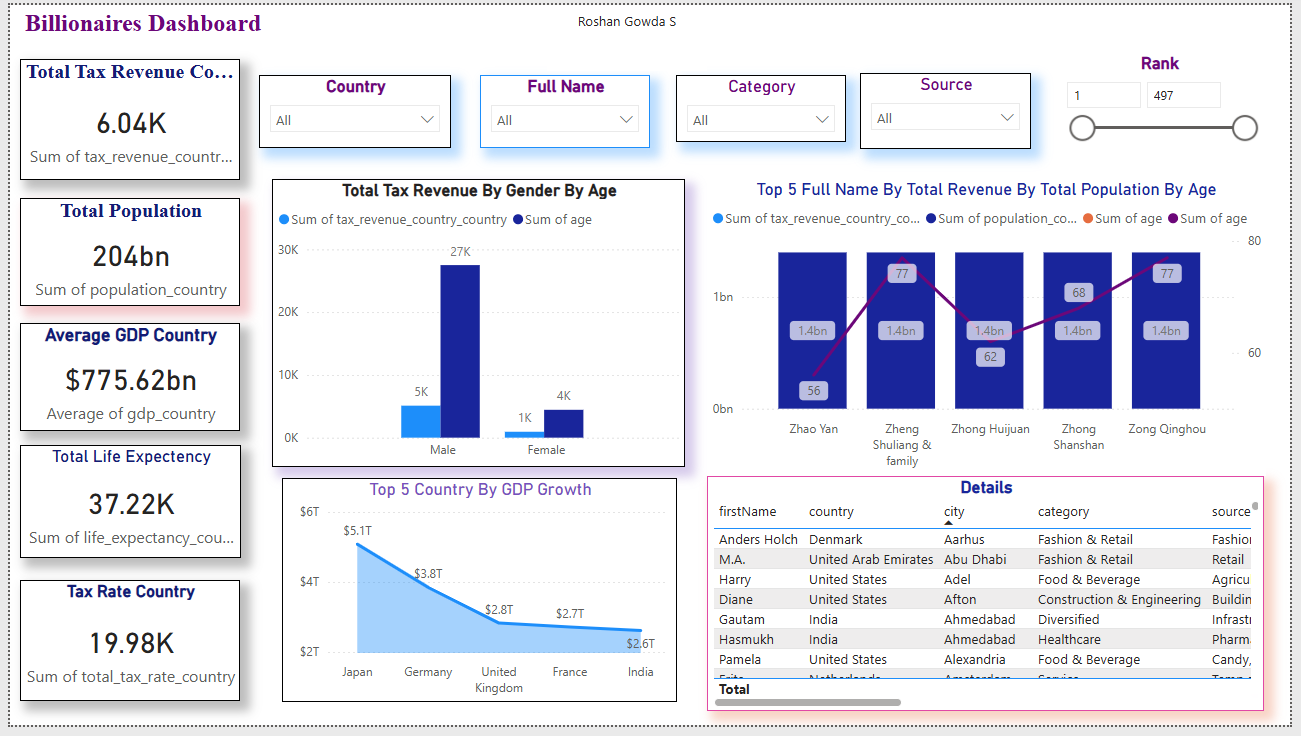

Layout of this report page (visuals, bound fields, positions):
{"tool":"powerbi","page":{"name":"Page 1","canvas":[1280,720],"ordinal":0},"visuals":[{"type":"textbox","box":[9.7,0,280.1,47.7],"z":0},{"type":"card","title":"Total Tax Revenue Country ","fields":{"Values":["Sum(Billionaires Statistics Dataset - Billionaires Statistics Dataset.tax_revenue_country_country)"]},"box":[9.7,54.5,219.8,120.6],"z":1000},{"type":"card","title":"Total Population","fields":{"Values":["Sum(Billionaires Statistics Dataset - Billionaires Statistics Dataset.population_country)"]},"box":[10,193.3,220,107.8],"z":2000},{"type":"card","title":"Average GDP Country","fields":{"Values":["Avg(Billionaires Statistics Dataset - Billionaires Statistics Dataset.gdp_country)"]},"box":[10,317.8,220,107.8],"z":3000},{"type":"card","title":"Total Life Expectency","fields":{"Values":["Sum(Billionaires Statistics Dataset - Billionaires Statistics Dataset.life_expectancy_country)"]},"box":[9.6,440.5,220.9,112.5],"z":4000},{"type":"card","title":"Tax Rate Country","fields":{"Values":["Sum(Billionaires Statistics Dataset - Billionaires Statistics Dataset.total_tax_rate_country)"]},"box":[9.7,574.8,219.8,121.6],"z":5000},{"type":"clusteredColumnChart","title":"Total Tax Revenue By Gender By Age ","fields":{"Y":["Sum(Billionaires Statistics Dataset - Billionaires Statistics Dataset.tax_revenue_country_country)","Sum(Billionaires Statistics Dataset - Billionaires Statistics Dataset.age)"],"Category":["Billionaires Statistics Dataset - Billionaires Statistics Dataset.gender"]},"box":[262.1,174.3,413,288.2],"z":6000},{"type":"slicer","title":"Country","fields":{"Values":["Billionaires Statistics Dataset - Billionaires Statistics Dataset.country"]},"box":[249.5,69.7,192,73.4],"z":7000},{"type":"slicer","title":"Full Name ","fields":{"Values":["Billionaires Statistics Dataset - Billionaires Statistics Dataset.firstName"]},"box":[469.6,69.7,170,73.4],"z":8000},{"type":"slicer","title":"Category","fields":{"Values":["Billionaires Statistics Dataset - Billionaires Statistics Dataset.category"]},"box":[666.4,69.7,170,67.3],"z":9000},{"type":"slicer","title":"Source","fields":{"Values":["Billionaires Statistics Dataset - Billionaires Statistics Dataset.source"]},"box":[849.9,68.5,171.2,75.8],"z":10000},{"type":"slicer","title":"Rank","fields":{"Values":["Billionaires Statistics Dataset - Billionaires Statistics Dataset.rank"]},"box":[1044.3,47.7,211.6,102.7],"z":11000},{"type":"areaChart","title":"Top 5 Country By GDP Growth","fields":{"Category":["Billionaires Statistics Dataset - Billionaires Statistics Dataset.country"],"Y":["Avg(Billionaires Statistics Dataset - Billionaires Statistics Dataset.gdp_country)"]},"box":[271.7,473.4,395.2,223.7],"z":12000},{"type":"tableEx","title":"Details","fields":{"Values":["Billionaires Statistics Dataset - Billionaires Statistics Dataset.firstName","Billionaires Statistics Dataset - Billionaires Statistics Dataset.country","Billionaires Statistics Dataset - Billionaires Statistics Dataset.city","Billionaires Statistics Dataset - Billionaires Statistics Dataset.category","Billionaires Statistics Dataset - Billionaires Statistics Dataset.source","Billionaires Statistics Dataset - Billionaires Statistics Dataset.gender","Sum(Billionaires Statistics Dataset - Billionaires Statistics Dataset.tax_revenue_country_country)","Sum(Billionaires Statistics Dataset - Billionaires Statistics Dataset.total_tax_rate_country)","Avg(Billionaires Statistics Dataset - Billionaires Statistics Dataset.gdp_country)","Sum(Billionaires Statistics Dataset - Billionaires Statistics Dataset.age)","Sum(Billionaires Statistics Dataset - Billionaires Statistics Dataset.population_country)"]},"box":[697.1,471.4,557.1,234.3],"z":13000},{"type":"textbox","box":[536.8,2.4,160.2,63.6],"z":14000},{"type":"lineStackedColumnComboChart","title":"Top 5 Full Name By Total Revenue By Total Population By Age","fields":{"Y":["Sum(Billionaires Statistics Dataset - Billionaires Statistics Dataset.tax_revenue_country_country)","Sum(Billionaires Statistics Dataset - Billionaires Statistics Dataset.population_country)","Sum(Billionaires Statistics Dataset - Billionaires Statistics Dataset.age)"],"Category":["Billionaires Statistics Dataset - Billionaires Statistics Dataset.personName"],"Y2":["Sum(Billionaires Statistics Dataset - Billionaires Statistics Dataset.age)"]},"box":[697.1,174.3,558.6,297.1],"z":15000}]}

Visuals, with their boxes in screenshot pixels (x1, y1, x2, y2), scaled from the page's 1280x720 canvas onto the 1301x736 screenshot:
textbox: locate(10, 0, 295, 49)
"Total Tax Revenue Country " card: locate(10, 56, 233, 179)
"Total Population" card: locate(10, 198, 234, 308)
"Average GDP Country" card: locate(10, 325, 234, 435)
"Total Life Expectency" card: locate(10, 450, 234, 565)
"Tax Rate Country" card: locate(10, 588, 233, 712)
"Total Tax Revenue By Gender By Age " clusteredColumnChart: locate(266, 178, 686, 473)
"Country" slicer: locate(254, 71, 449, 146)
"Full Name " slicer: locate(477, 71, 650, 146)
"Category" slicer: locate(677, 71, 850, 140)
"Source" slicer: locate(864, 70, 1038, 148)
"Rank" slicer: locate(1061, 49, 1277, 154)
"Top 5 Country By GDP Growth" areaChart: locate(276, 484, 678, 713)
"Details" tableEx: locate(709, 482, 1275, 721)
textbox: locate(546, 2, 708, 67)
"Top 5 Full Name By Total Revenue By Total Population By Age" lineStackedColumnComboChart: locate(709, 178, 1276, 482)
